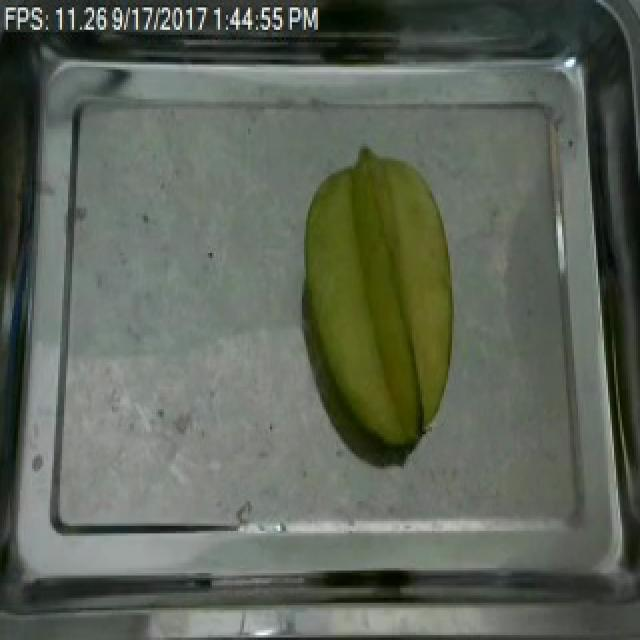fruit: (292, 144, 468, 466)
